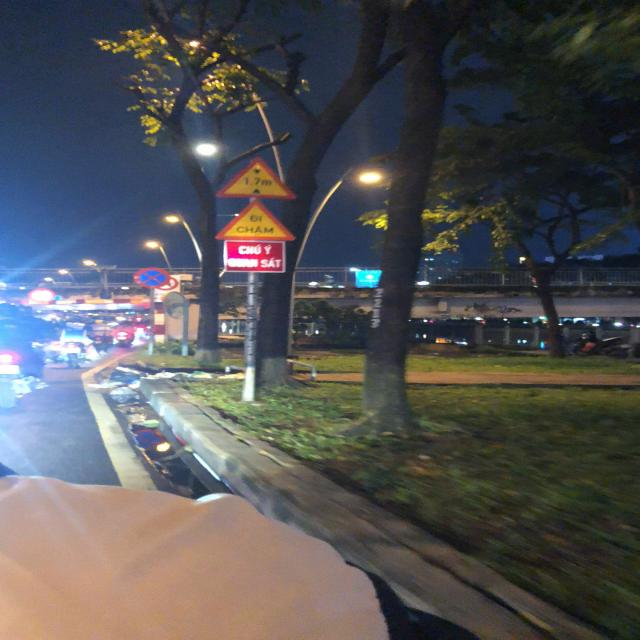Bien bao cam dung xe va do xe: (124, 266, 175, 288)
Bien bao chieu cao tinh khong thuc te: (206, 155, 298, 198)
Bien bao di cham: (210, 199, 304, 242)
